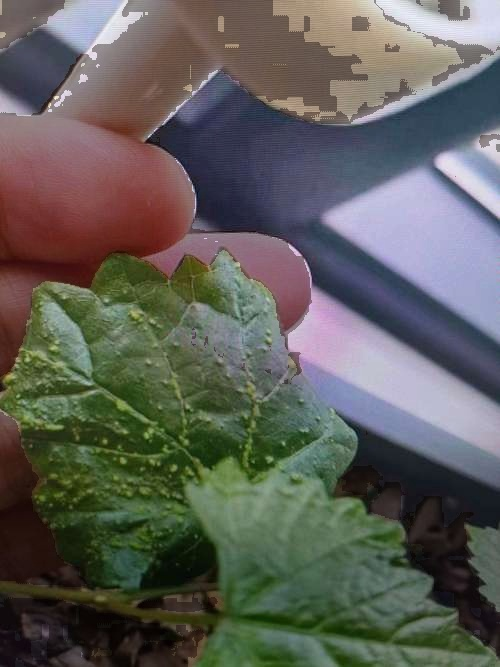Gall_Mite: (5, 297, 304, 521)
